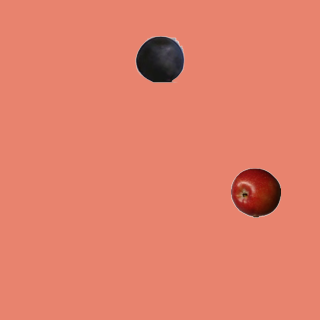Apple Braeburn: (230, 167, 280, 217)
Grape Blue: (134, 33, 184, 83)
